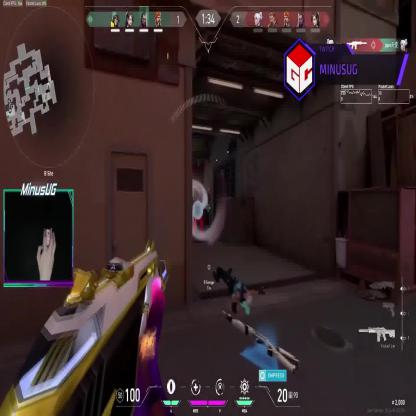enemy: (193, 196, 204, 241)
enemy_head: (196, 196, 199, 202)
